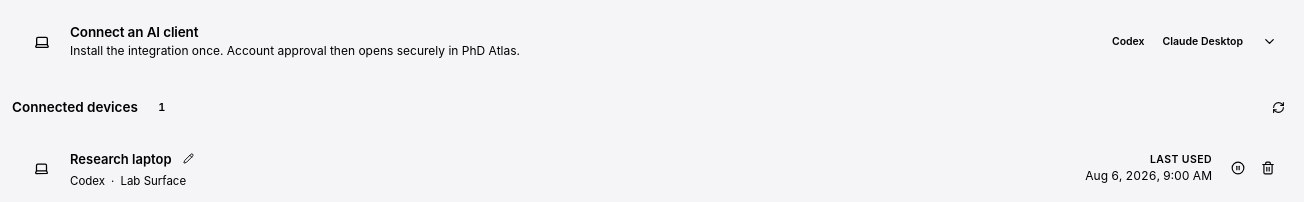
Test: CodexAuthorizationManager › pauses and resumes a connection without removing it
Click the button named "Pause": (1238, 168) 1224,154 -> 1252,182
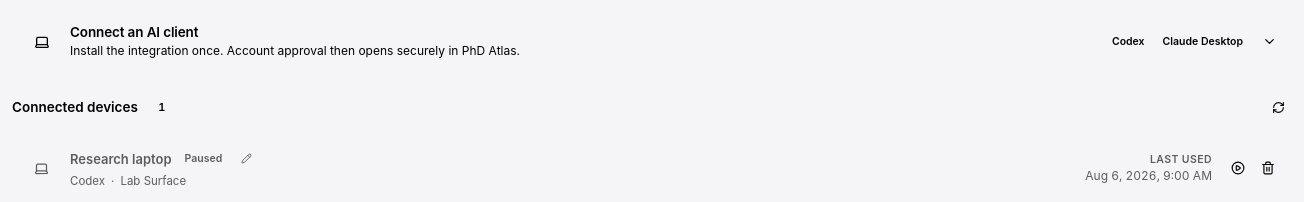
Expected: the text "Research laptop" is shown, 70,151 -> 172,167
Now the button named "Resume" is shown
Click the button named "Resume": (1238, 168) 1224,154 -> 1252,182
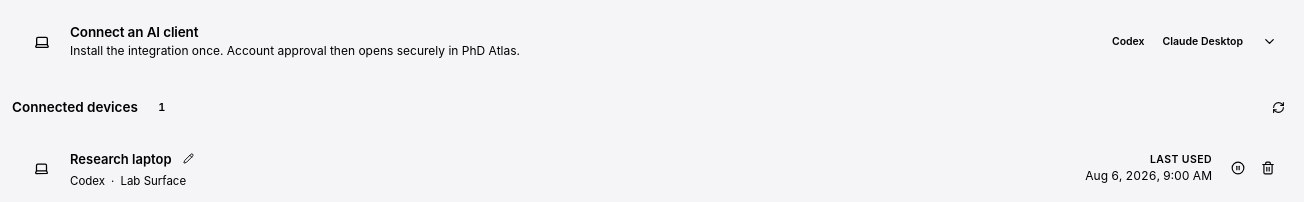
Now the button named "Pause" is shown, box 1224,154 -> 1252,182
